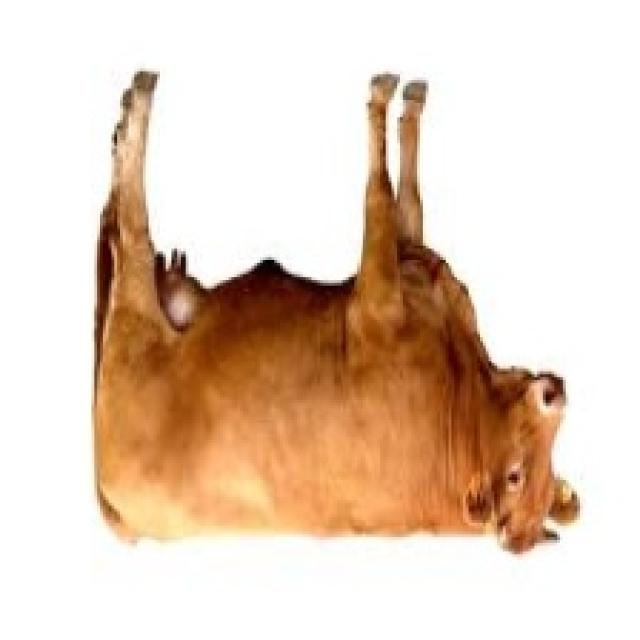bear: (52, 41, 616, 624)
